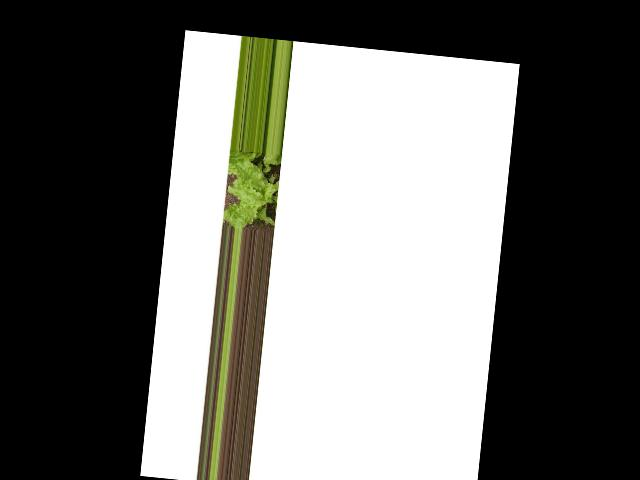lettuce: (224, 149, 285, 231)
